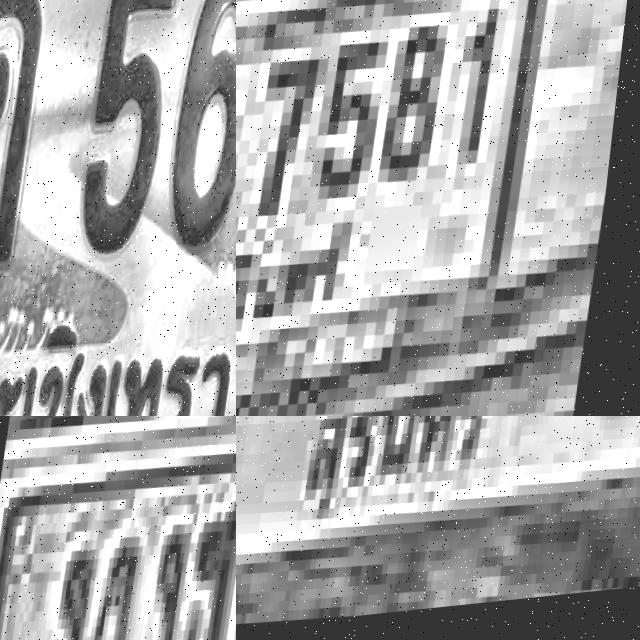license-plate: (236, 0, 640, 416), (0, 0, 236, 416), (236, 416, 640, 640), (0, 416, 236, 640)
